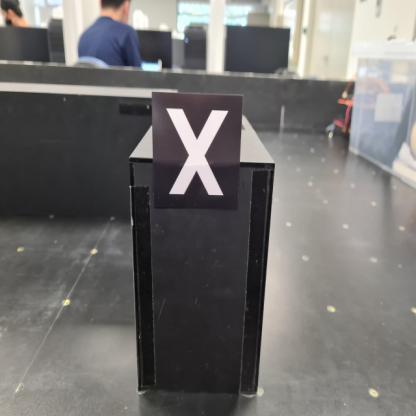x: (150, 90, 243, 210)
